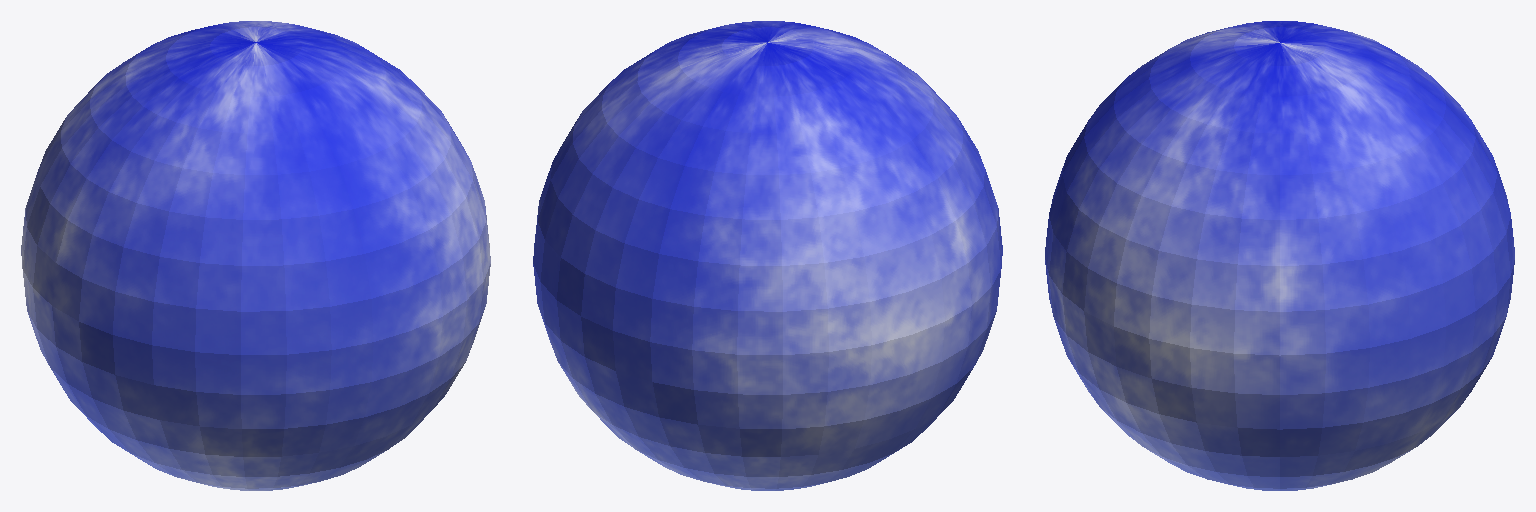
3 renders of one model, left to right at view 1: azimuth 30°, elevation 25°; view 2: azimuth 150°, elevation 25°; view 3: azimuth 270°, elevation 25°, orthographic.
Visible parts, largest first — view 1: sphere; view 2: sphere; view 3: sphere.
Part boxes in pixels (bbox=[...]): sphere: bbox=[21, 21, 490, 490]; sphere: bbox=[533, 21, 1002, 490]; sphere: bbox=[1045, 21, 1514, 490].
Bounding box in the file's own units: 100 × 100 × 100.
Materials: 1 (1 with a texture image).